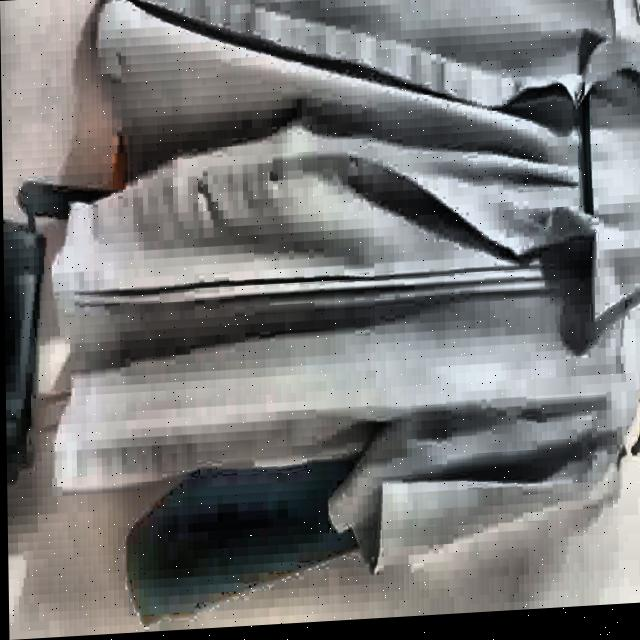clothes: (23, 0, 640, 603)
